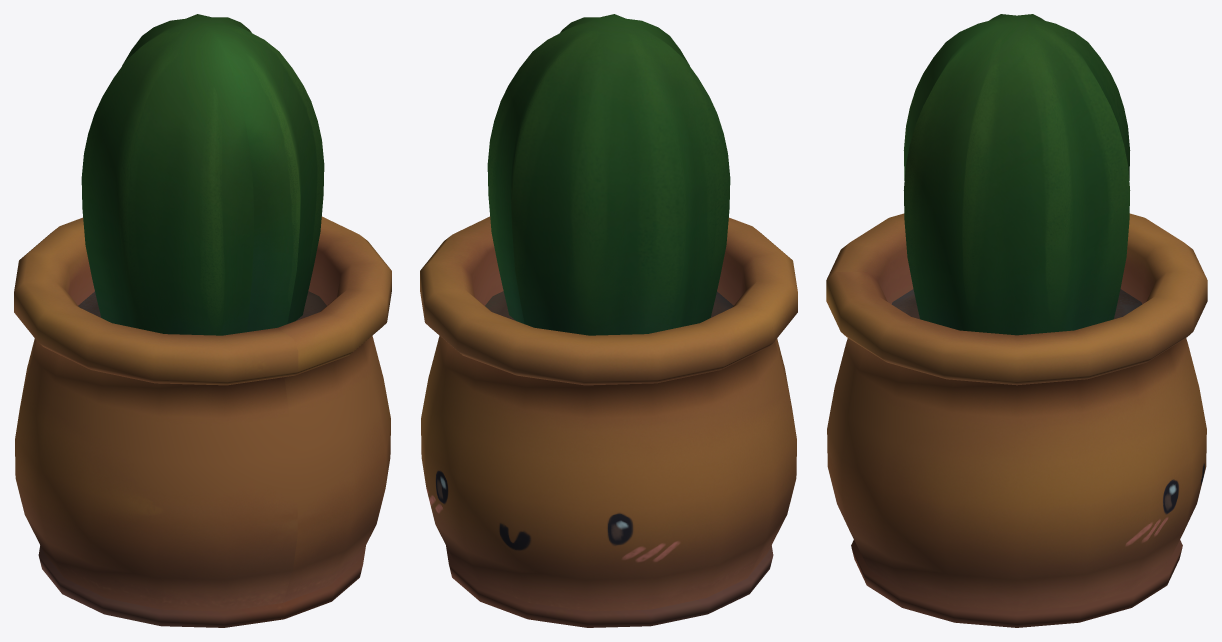
Rendered from Cactus.fbx.
The picture shows the model from 3 angles, left to right: view 1: azimuth 30°, elevation 25°; view 2: azimuth 150°, elevation 25°; view 3: azimuth 270°, elevation 25°; orthographic projection.
Parts seen in each view (by area): view 1: Cylinder; view 2: Cylinder; view 3: Cylinder.
Part boxes in pixels (x1,y1,x2,y2): Cylinder: [14, 14, 391, 627]; Cylinder: [420, 14, 797, 627]; Cylinder: [826, 14, 1207, 627].
Size of the model in its own units: 237 by 368 by 237.
